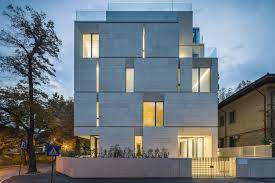Building House: (70, 5, 224, 168)
